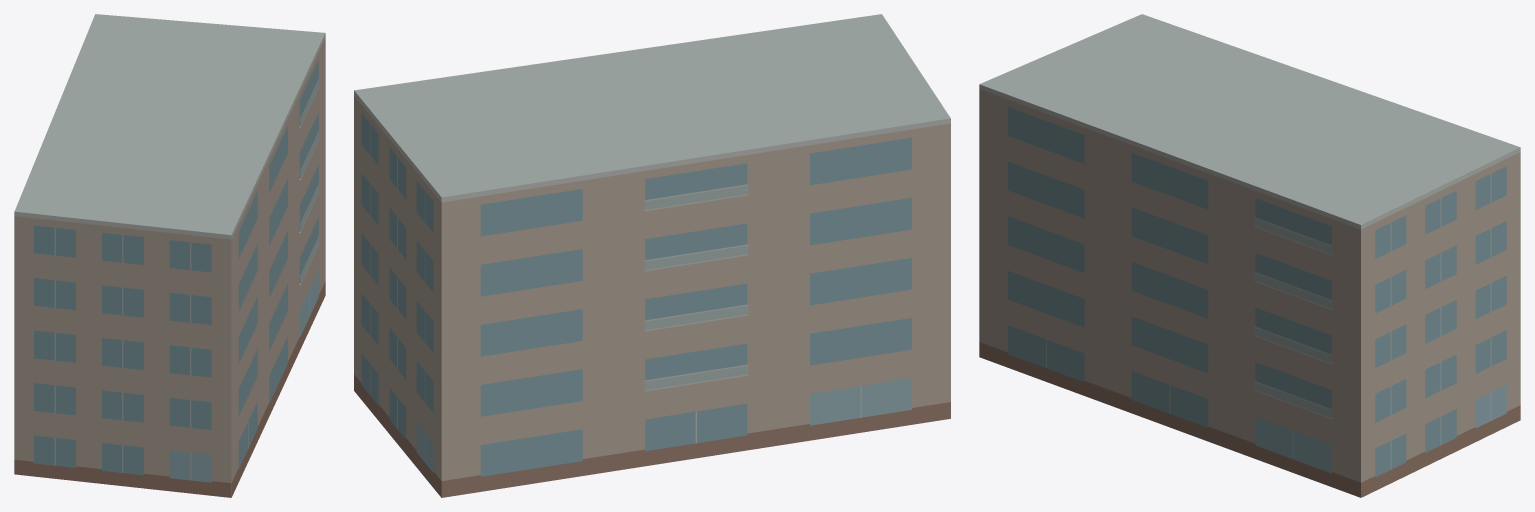
File: survey-upis-32780894.glb
3 views of the same model, side by side, from view 1: azimuth 30°, elevation 25°; view 2: azimuth 150°, elevation 25°; view 3: azimuth 270°, elevation 25° (orthographic). The views are drawn at different scales.
Visible parts, largest first — view 1: survey-upis-32780894.tmp; view 2: survey-upis-32780894.tmp; view 3: survey-upis-32780894.tmp.
Part boxes in pixels (x1=…): survey-upis-32780894.tmp: x1=14, y1=14, x2=325, y2=497; survey-upis-32780894.tmp: x1=354, y1=14, x2=950, y2=497; survey-upis-32780894.tmp: x1=979, y1=14, x2=1520, y2=497.
Size of the model in its own units: 24.06 by 14.5 by 26.09.
